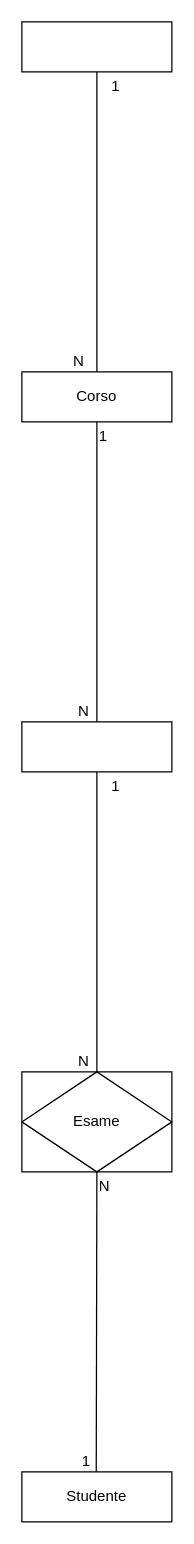
This 194x1544 diagram has some shape labels left out. Here are the shapes that lost their labels. From the top down, the centre of each, then its label:
[96,46]: Docente
[96,746]: Appello
